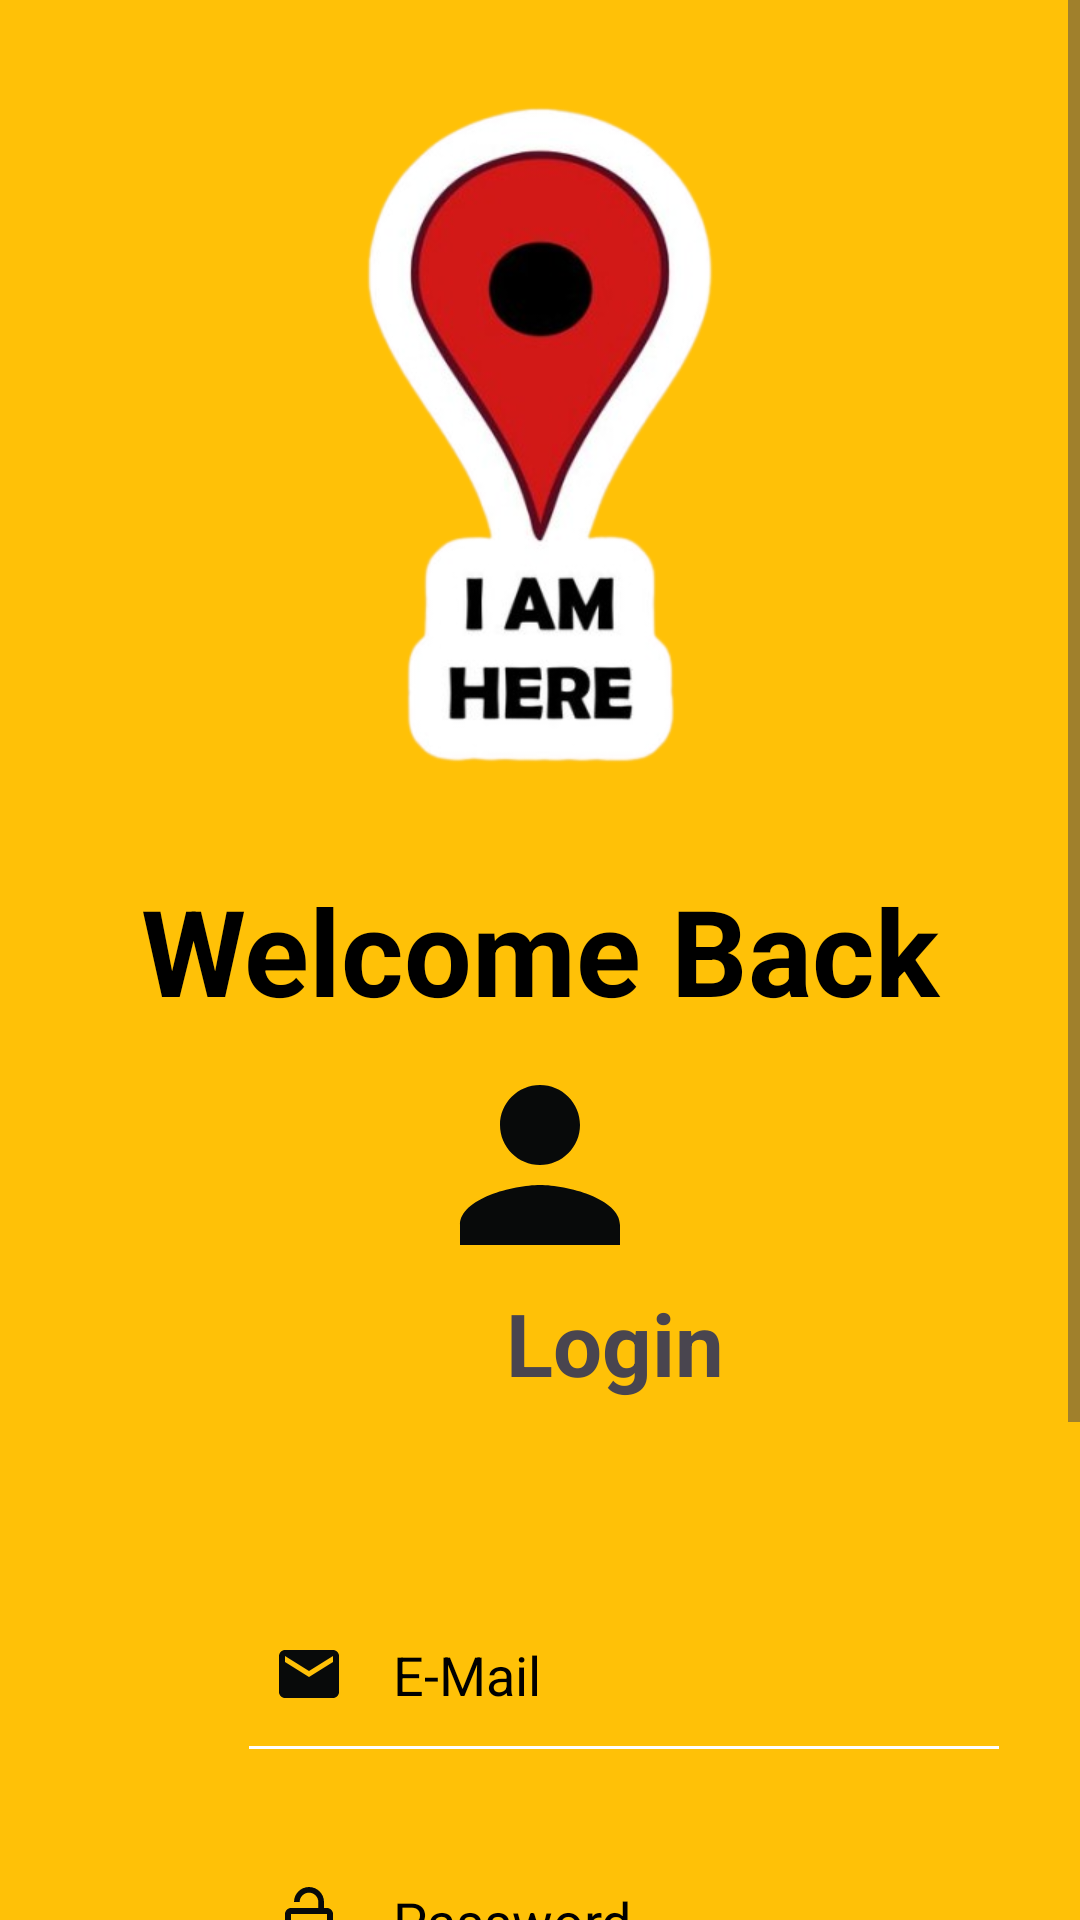

Named icons in this screenshot (1080*1920) and their centers, point (x, y):
person: point (540, 1165)
